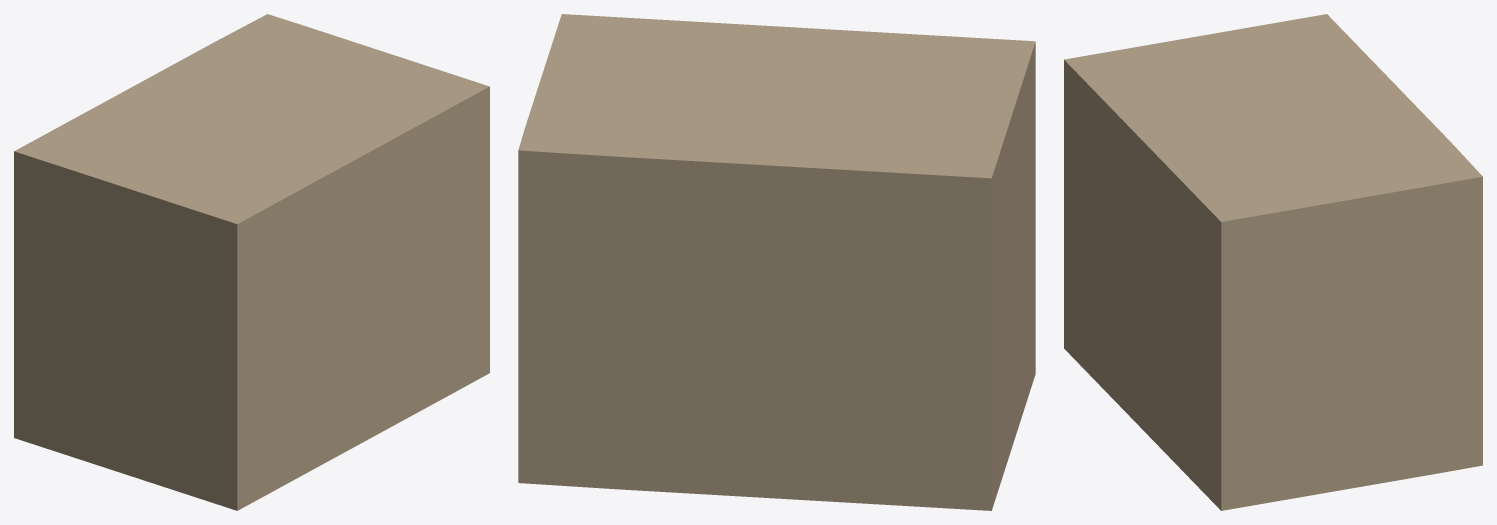
The model's file is bld_101806041.dae.
3 renders of one model, left to right at view 1: azimuth 30°, elevation 25°; view 2: azimuth 150°, elevation 25°; view 3: azimuth 270°, elevation 25°, orthographic. The views are drawn at different scales.
Visible parts, largest first — view 1: bld_101806041; view 2: bld_101806041; view 3: bld_101806041.
Part boxes in pixels (box(x1,y1,x2,y2)): bld_101806041: box(14, 14, 489, 510); bld_101806041: box(518, 14, 1035, 510); bld_101806041: box(1064, 14, 1482, 510).
Size of the model in its own units: 12.36 by 10.51 by 8.
